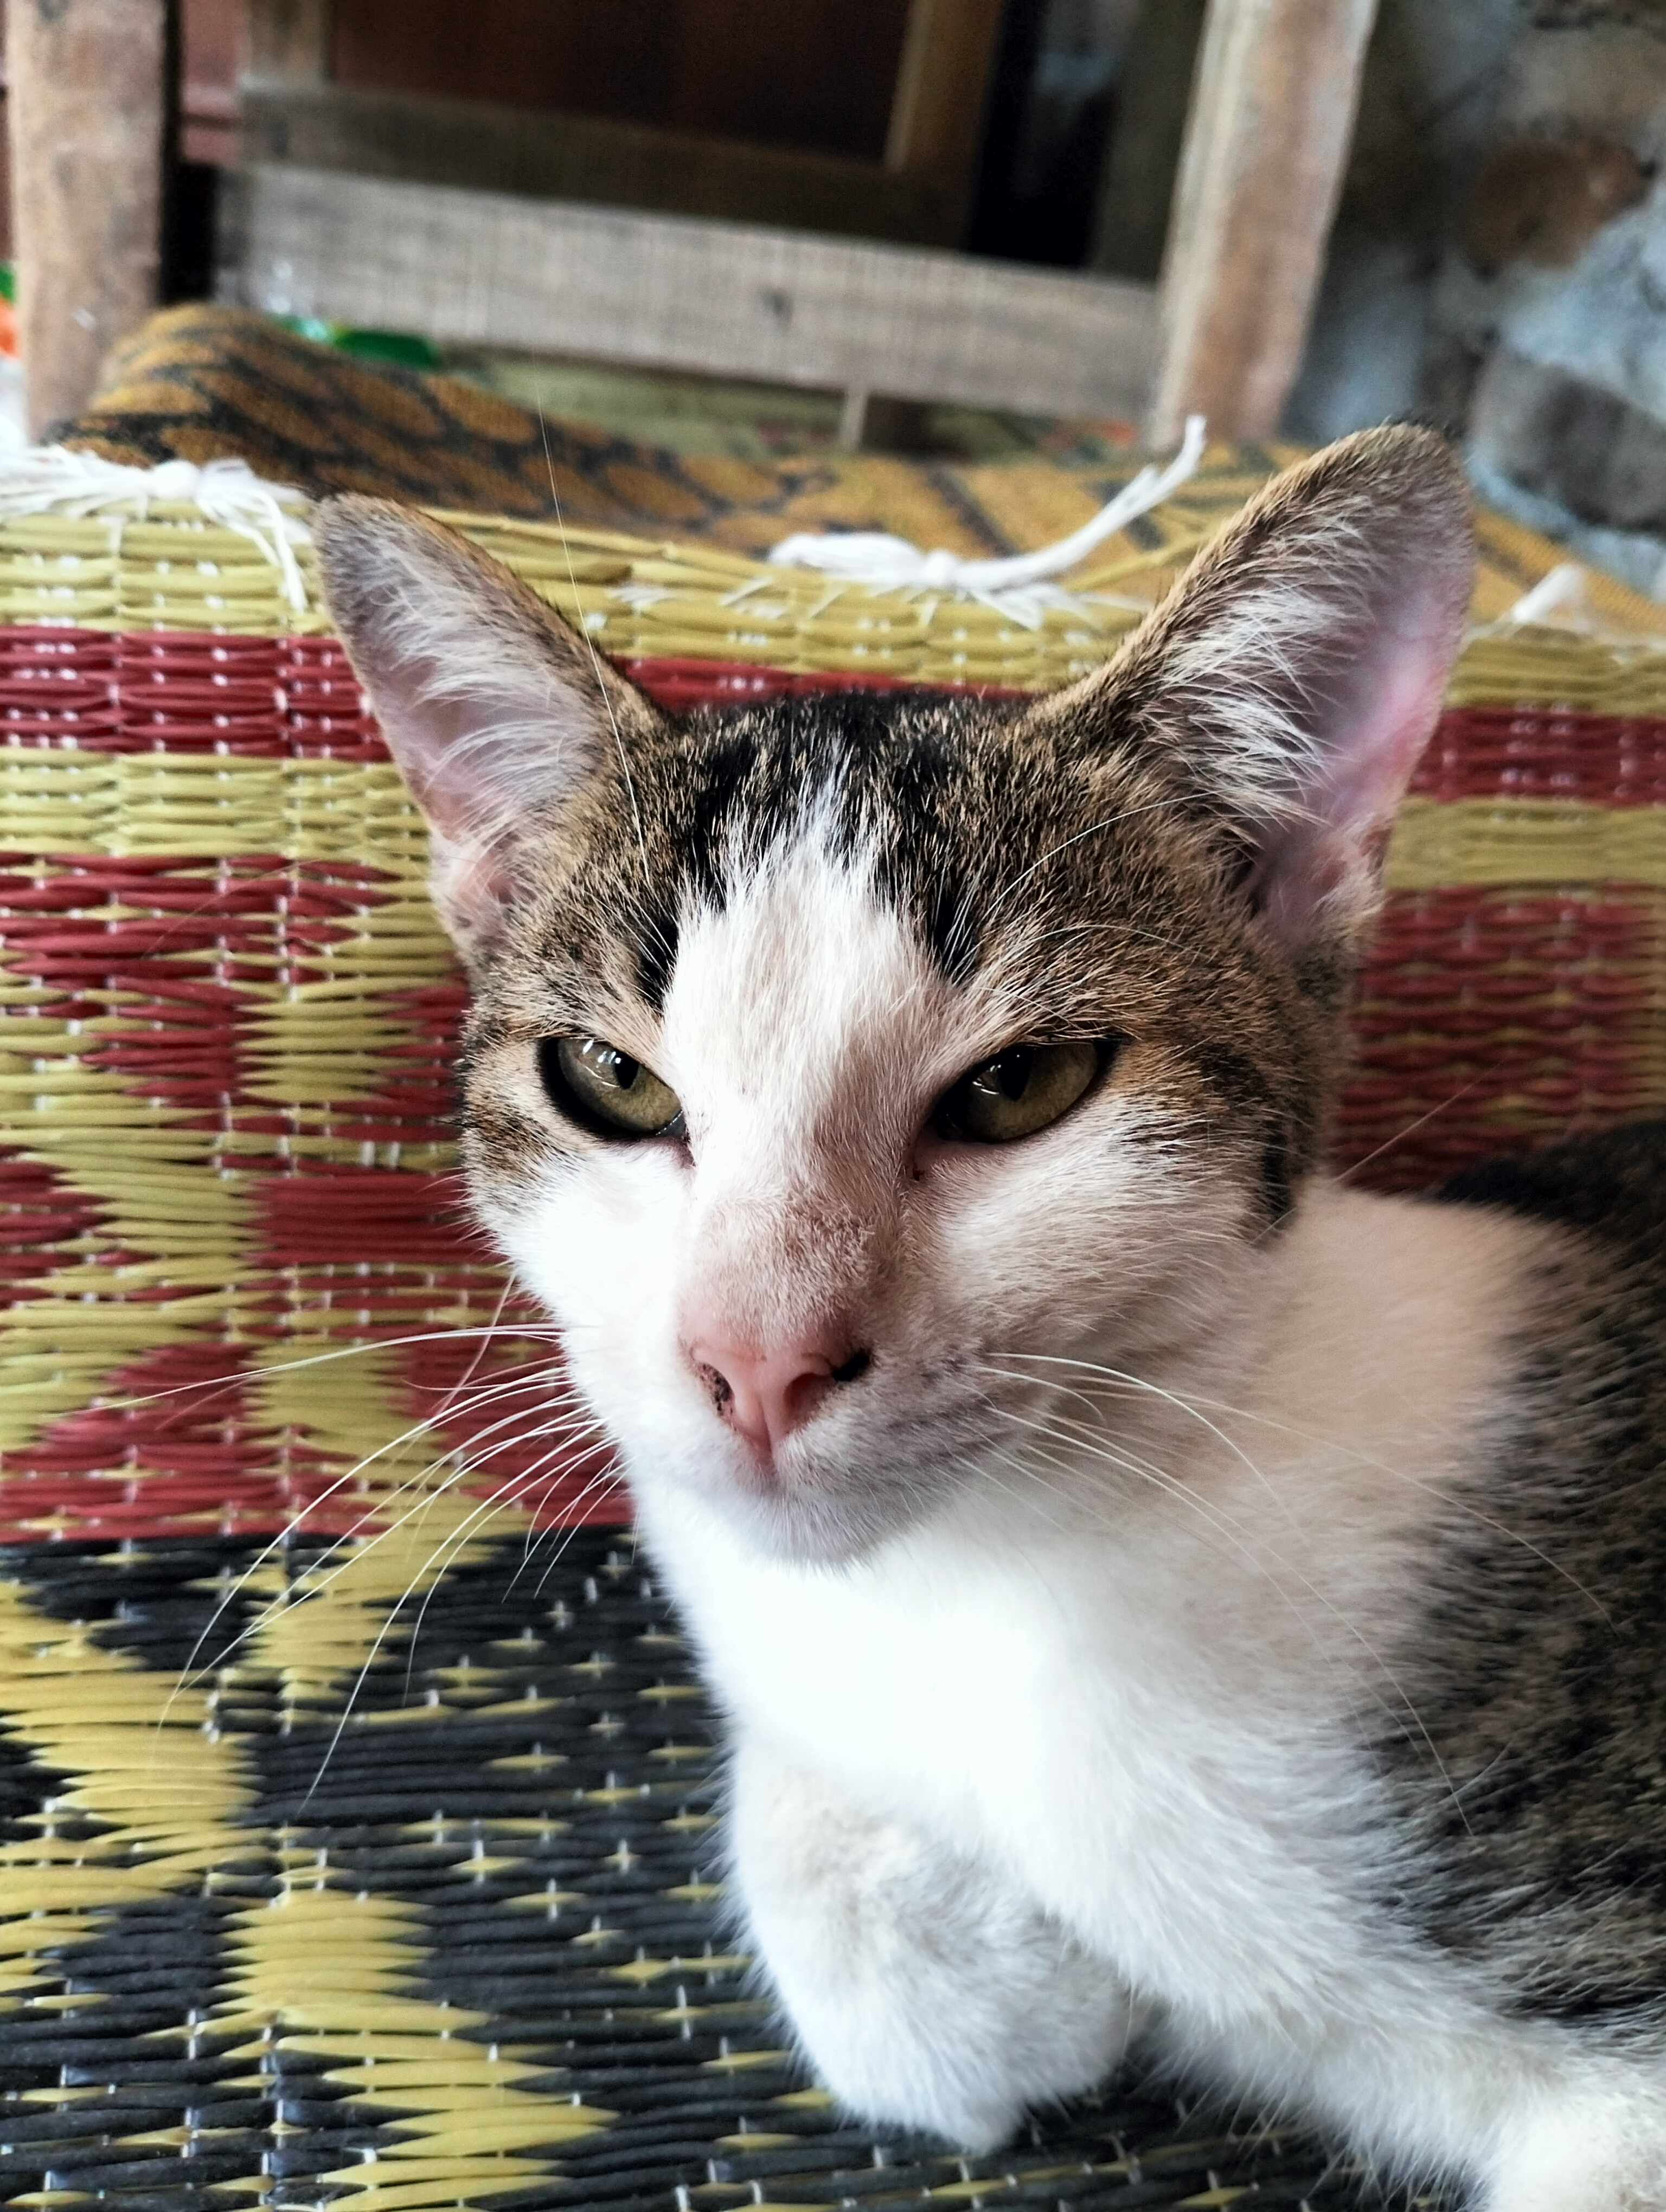miki: (272, 436, 1597, 1616)
